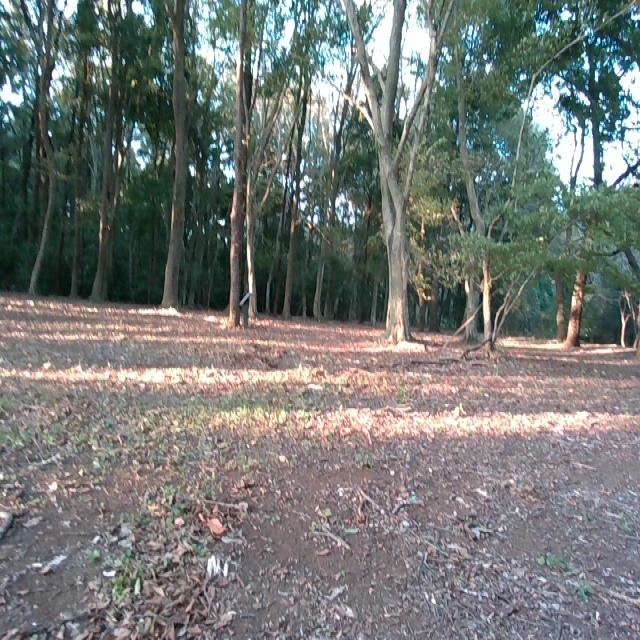tree: (357, 0, 433, 343), (566, 0, 610, 337), (223, 0, 262, 329), (463, 0, 501, 334), (153, 0, 187, 315), (97, 0, 127, 308), (25, 97, 68, 291)
